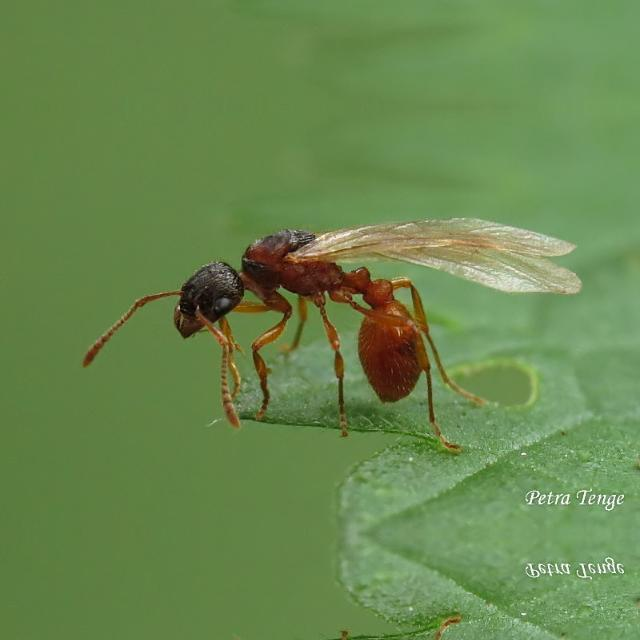Myrmica: (100, 174, 564, 458)
